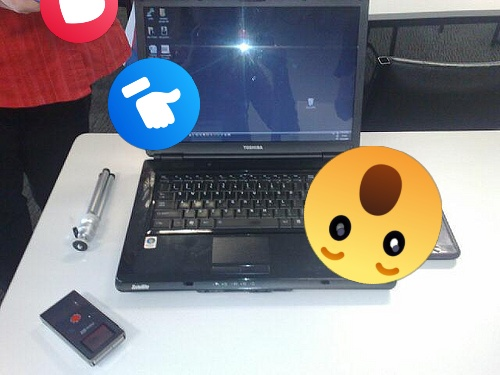like: (108, 58, 200, 150)
love: (40, 0, 118, 43)
wow: (304, 146, 442, 284)
